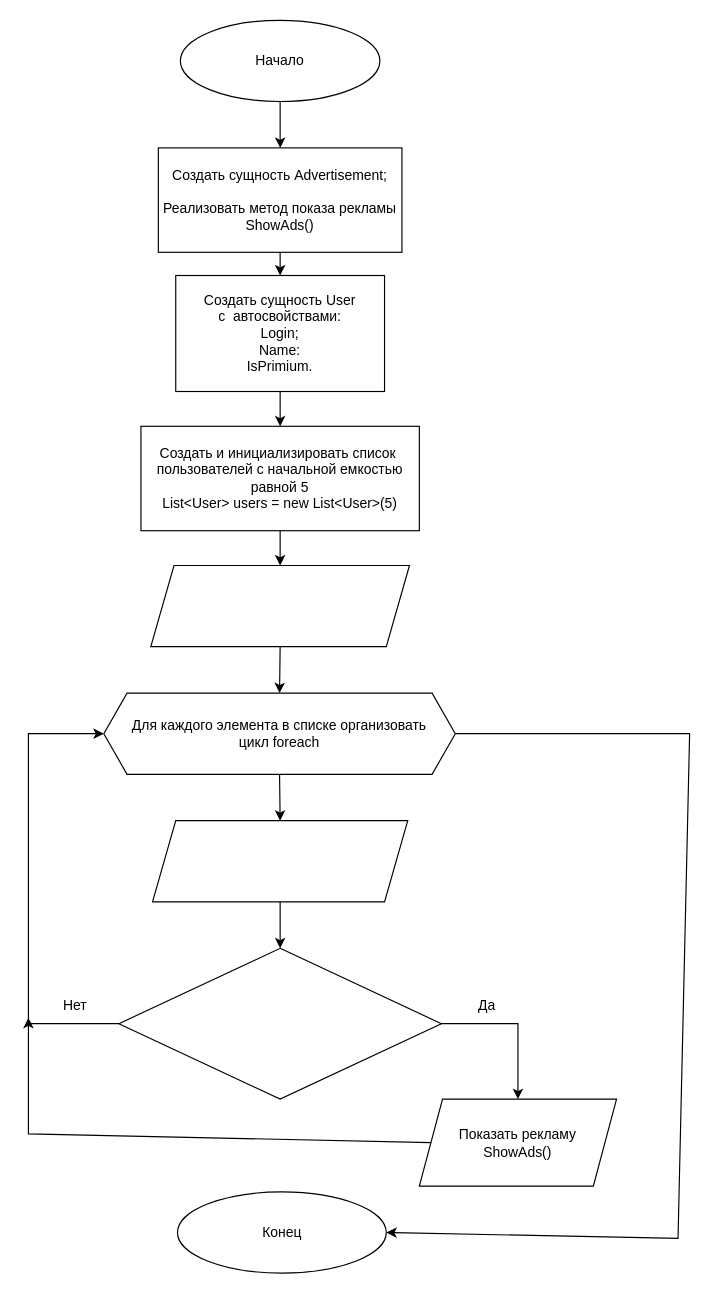
Some shapes in this 719 by 1293 pixel diagram are drawn without their labels. Each missing label, with the centre of its shape:
Вывести приветствие методом Console.Write(): pixel 279 861
Заполнить список List<User> users: pixel 279 605
Проверка условия наличия платной подписки IsPremium: pixel 279 1023
